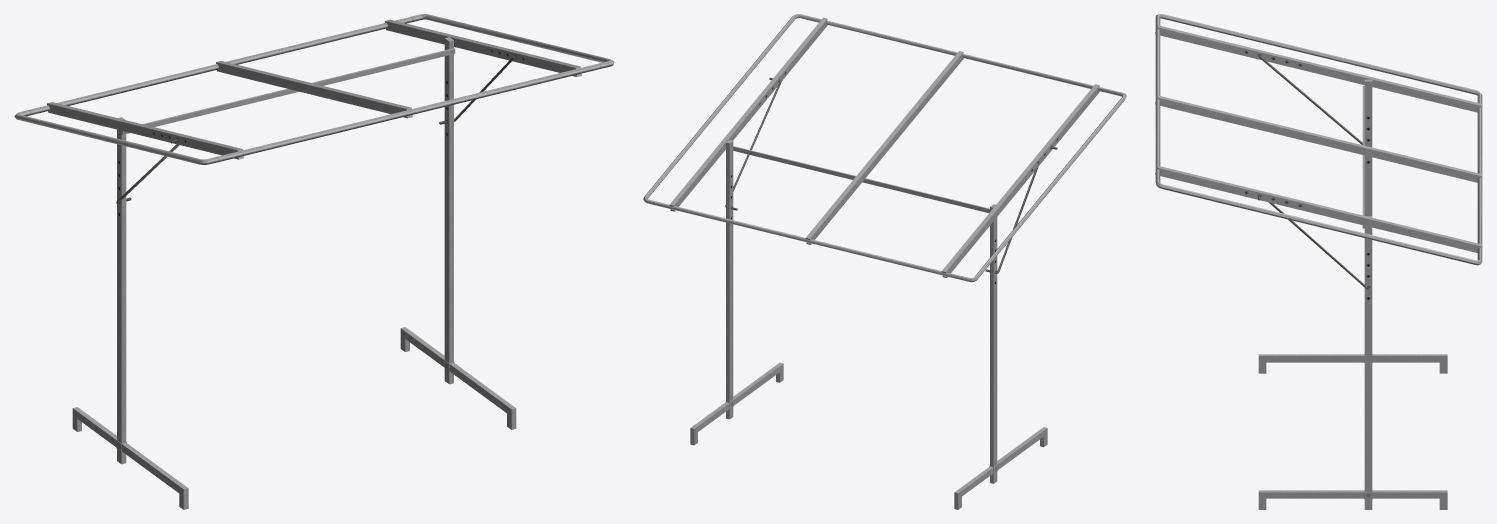
The model's file is jsf_2P_s02_Leg01.fbx.
3 views of the same model, side by side, from view 1: azimuth 30°, elevation 25°; view 2: azimuth 150°, elevation 25°; view 3: azimuth 270°, elevation 25° (orthographic). The views are drawn at different scales.
Visible parts, largest first — view 1: jsf_2P_s02_Leg01; view 2: jsf_2P_s02_Leg01; view 3: jsf_2P_s02_Leg01.
Boxes of the visible parts, x1,y1,x2,y2 form: jsf_2P_s02_Leg01: [14, 14, 614, 509]; jsf_2P_s02_Leg01: [643, 14, 1126, 509]; jsf_2P_s02_Leg01: [1155, 14, 1482, 509].
Bounding box in the file's own units: 262 × 244 × 210.
